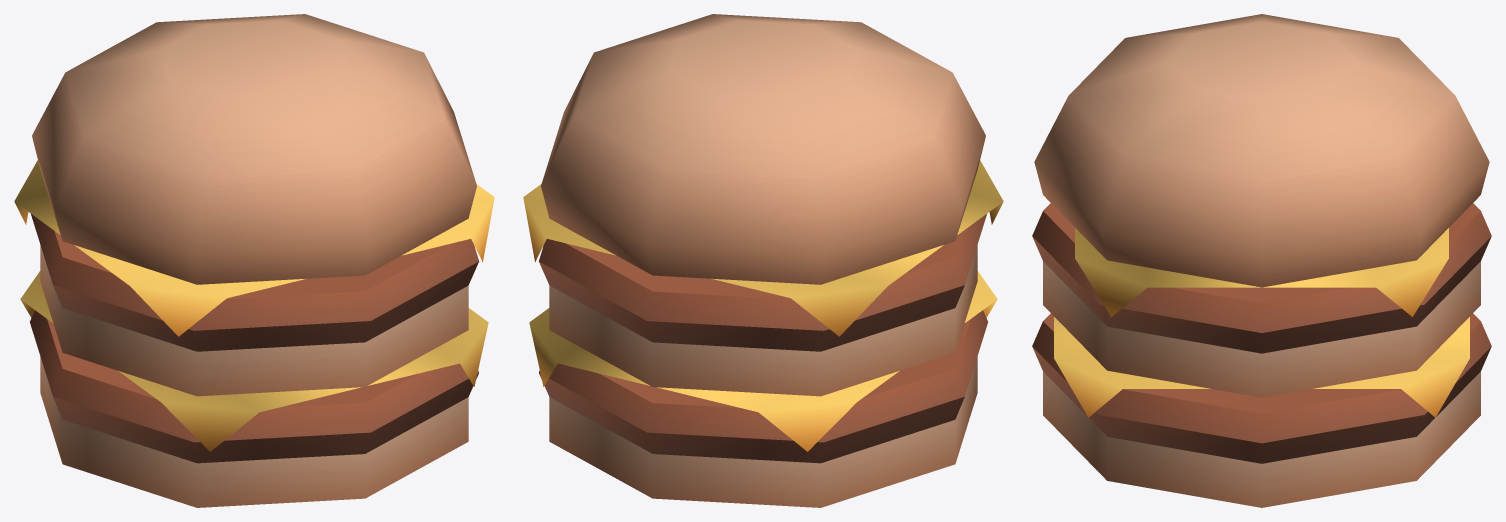
The model's file is burger-craft.glb.
3 renders of one model, left to right at view 1: azimuth 30°, elevation 25°; view 2: azimuth 150°, elevation 25°; view 3: azimuth 270°, elevation 25°, orthographic.
Visible parts, largest first — view 1: dish; view 2: dish; view 3: dish.
Part boxes in pixels (left/top/right/bottom): dish: left=14, top=14, right=494, bottom=507; dish: left=523, top=14, right=1003, bottom=507; dish: left=1032, top=14, right=1491, bottom=507.
Size of the model in its own units: 0.1342 by 0.1136 by 0.1342.
1 material, 1 textured.
